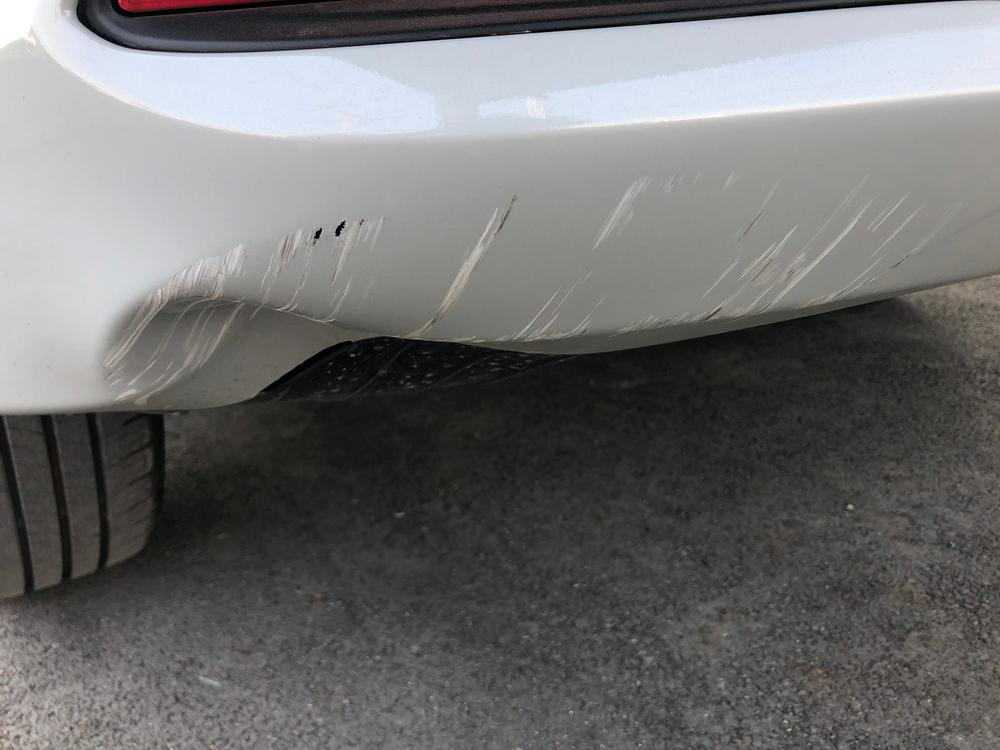dent: (105, 296, 567, 409)
scratch: (149, 173, 964, 346)
